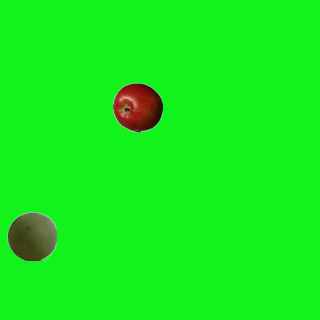Apple Braeburn: (112, 82, 162, 132)
Grape White 4: (6, 211, 56, 261)
